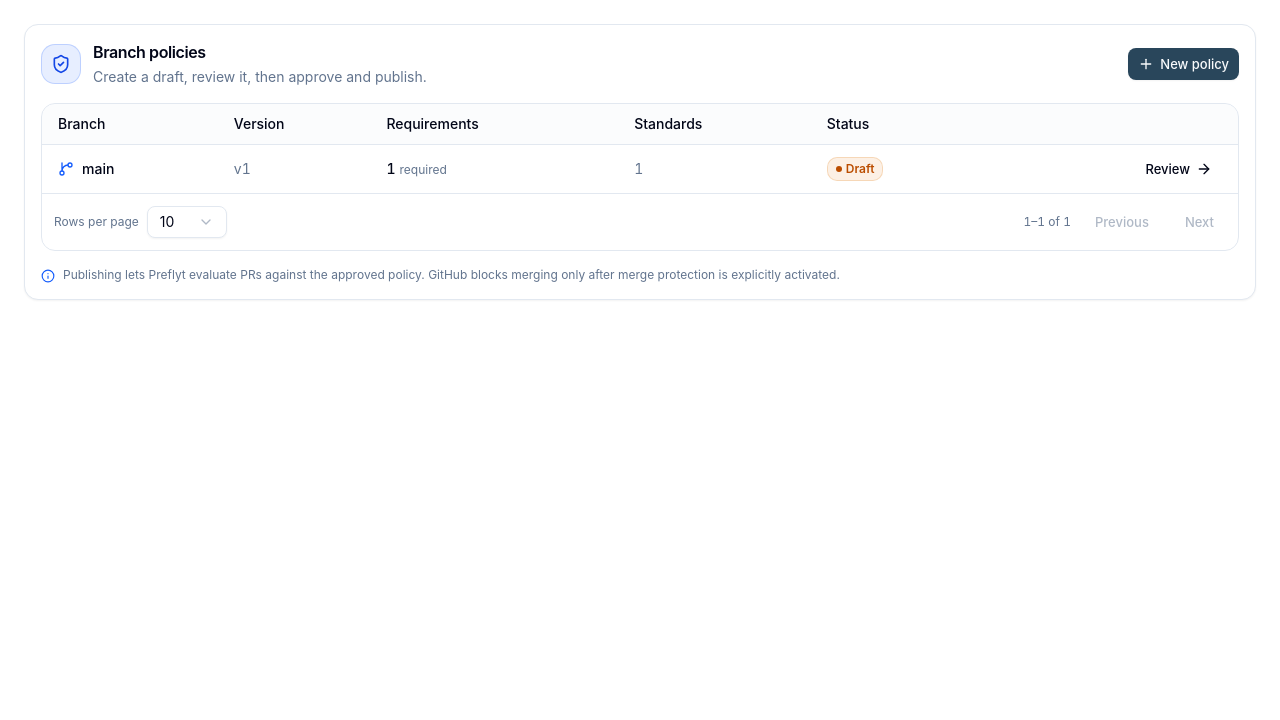
it: keeps a policy with its own standards current after repository defaults change
Click the button with aria-label "Review main version 1" at (1179, 168), box [1135, 152, 1222, 184]
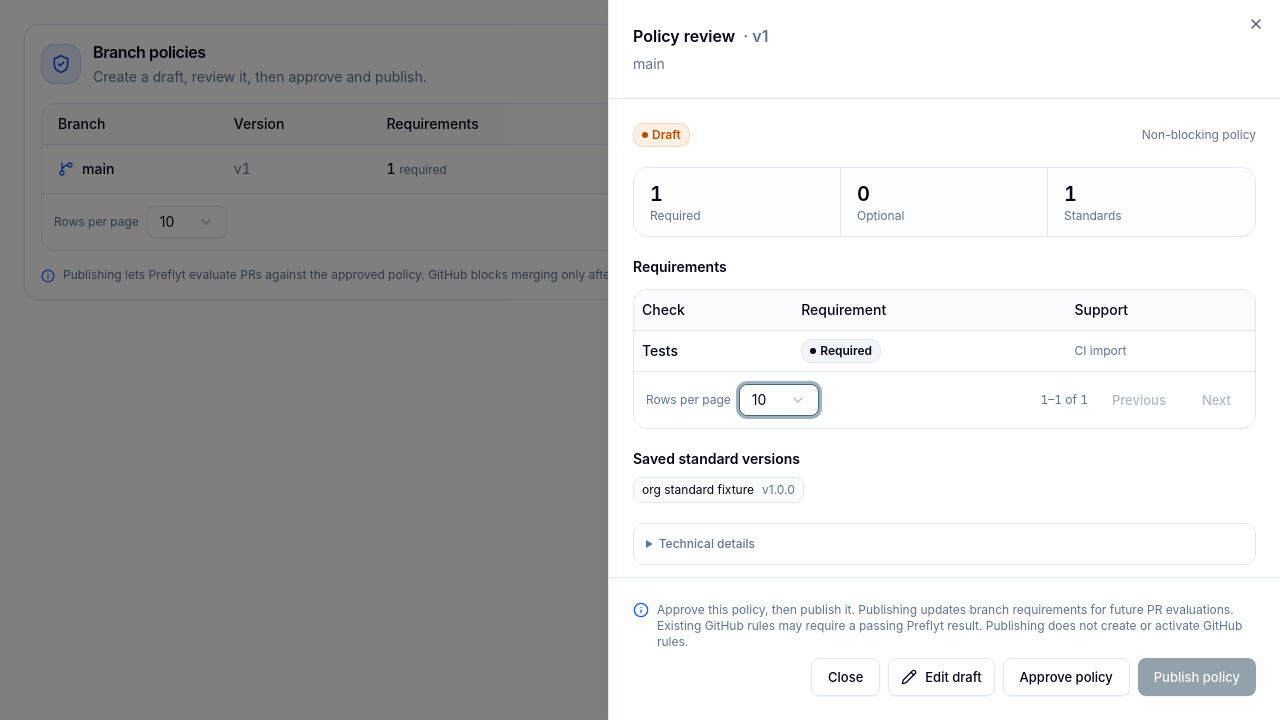
Expected: the button "Approve policy" is enabled, [1003, 658, 1130, 696]
